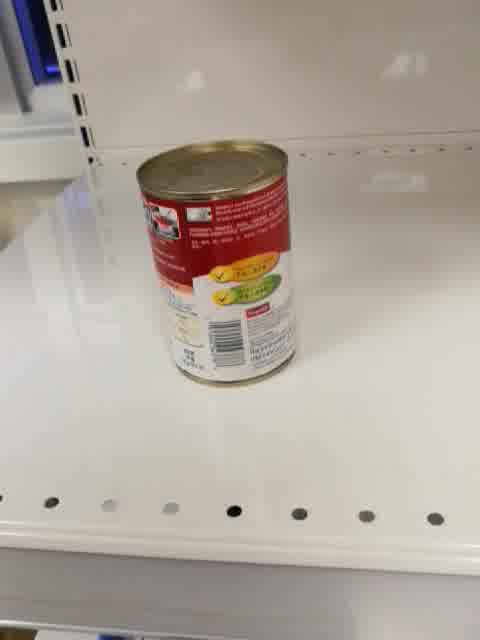tomatosoup: (132, 138, 299, 388)
